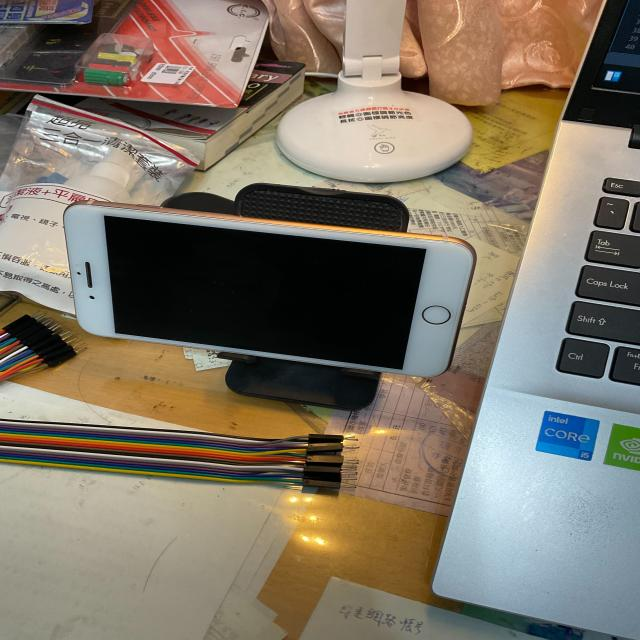Smartphone: (60, 190, 489, 391)
